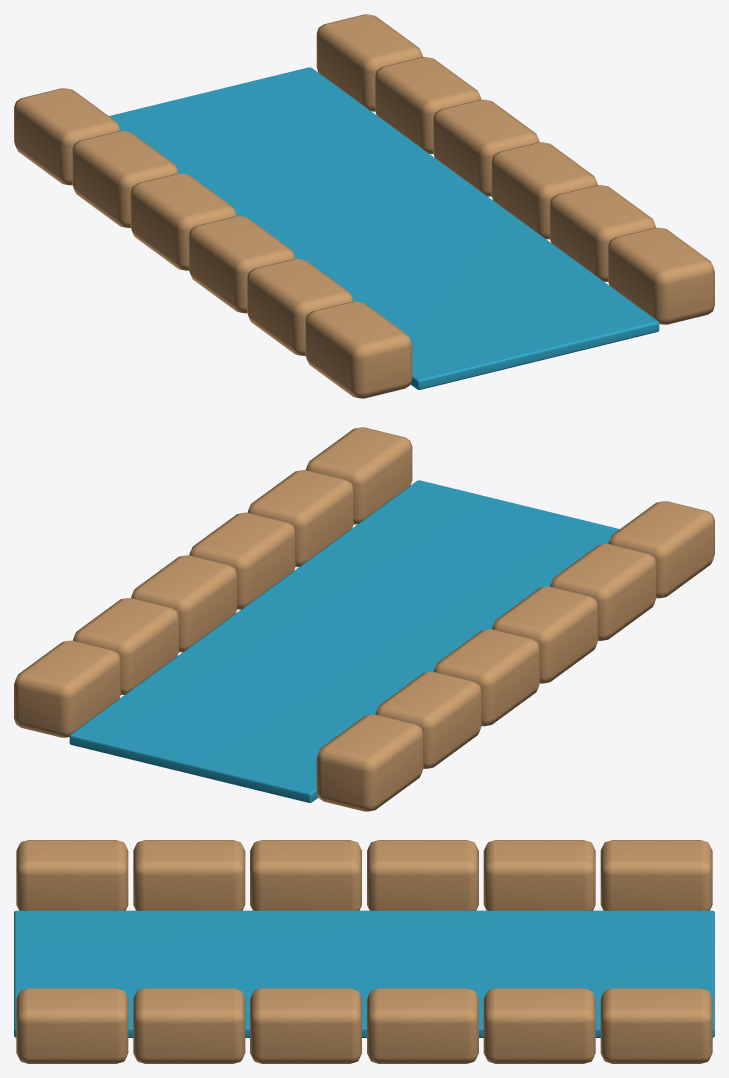
The model's file is NJD-20.glb.
3 renders of one model, top to bottom at view 1: azimuth 30°, elevation 25°; view 2: azimuth 150°, elevation 25°; view 3: azimuth 270°, elevation 25°, orthographic.
Visible parts, largest first — view 1: water, channel lining, channel lining.006, channel lining.005, channel lining.001, channel lining.002, channel lining.003, channel lining.004, channel lining.009, channel lining.008, channel lining.011, channel lining.007 (+1 smaller); view 2: water, channel lining.005, channel lining.011, channel lining, channel lining.004, channel lining.002, channel lining.003, channel lining.001, channel lining.008, channel lining.009, channel lining.006, channel lining.010 (+1 smaller); view 3: water, channel lining.007, channel lining.010, channel lining.006, channel lining.011, channel lining.008, channel lining.009, channel lining.001, channel lining.004, channel lining, channel lining.005, channel lining.002 (+1 smaller).
Part boxes in pixels (bbox=[...]): water: bbox=[109, 67, 659, 389]; channel lining: bbox=[305, 301, 412, 398]; channel lining.006: bbox=[608, 227, 714, 324]; channel lining.005: bbox=[14, 88, 120, 185]; channel lining.001: bbox=[247, 258, 353, 355]; channel lining.002: bbox=[188, 216, 295, 313]; channel lining.003: bbox=[130, 173, 236, 270]; channel lining.004: bbox=[72, 131, 178, 227]; channel lining.009: bbox=[433, 99, 539, 196]; channel lining.008: bbox=[491, 142, 597, 239]; channel lining.011: bbox=[316, 14, 422, 111]; channel lining.007: bbox=[549, 185, 655, 281]; water: bbox=[69, 480, 619, 802]; channel lining.005: bbox=[316, 714, 423, 811]; channel lining.011: bbox=[14, 640, 120, 737]; channel lining: bbox=[608, 501, 714, 598]; channel lining.004: bbox=[375, 671, 481, 768]; channel lining.002: bbox=[492, 586, 598, 683]; channel lining.003: bbox=[433, 629, 540, 726]; channel lining.001: bbox=[550, 544, 656, 640]; channel lining.008: bbox=[189, 512, 295, 609]; channel lining.009: bbox=[131, 555, 237, 652]; channel lining.006: bbox=[306, 427, 412, 524]; channel lining.010: bbox=[73, 598, 179, 694]; water: bbox=[14, 910, 714, 1037]; channel lining.007: bbox=[133, 988, 245, 1063]; channel lining.010: bbox=[483, 988, 595, 1063]; channel lining.006: bbox=[16, 988, 128, 1063]; channel lining.011: bbox=[600, 988, 712, 1063]; channel lining.008: bbox=[250, 988, 361, 1063]; channel lining.009: bbox=[367, 988, 478, 1063]; channel lining.001: bbox=[133, 840, 245, 910]; channel lining.004: bbox=[483, 840, 595, 910]; channel lining: bbox=[16, 840, 128, 910]; channel lining.005: bbox=[600, 840, 712, 910]; channel lining.002: bbox=[250, 840, 361, 910].
Size of the model in its own units: 1.8 by 0.26 by 3.
